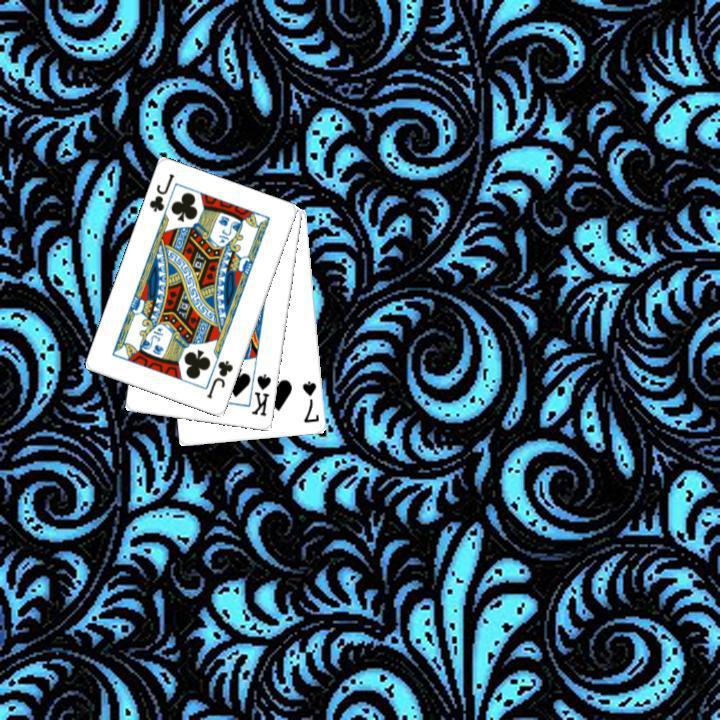7: (298, 377, 322, 425)
J: (202, 356, 235, 401), (145, 170, 177, 214)
K: (248, 370, 273, 418)
